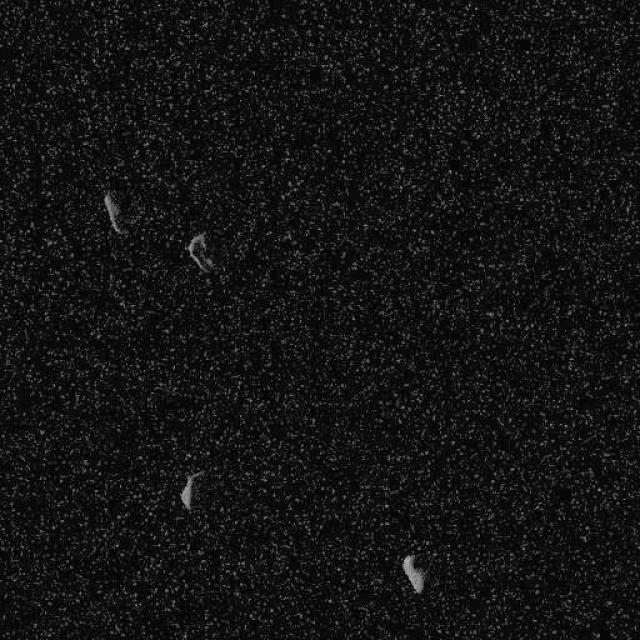D2: (185, 231, 216, 275), (101, 189, 128, 235), (178, 468, 204, 512), (401, 552, 425, 594)
